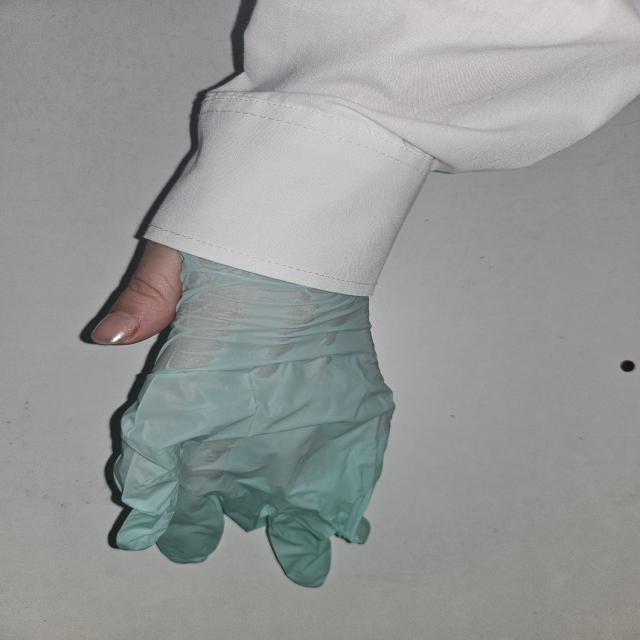glove_partial: (86, 236, 398, 587)
